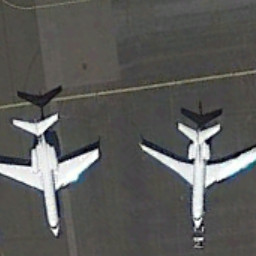Airplane: (1, 104, 108, 245), (132, 114, 256, 235)
